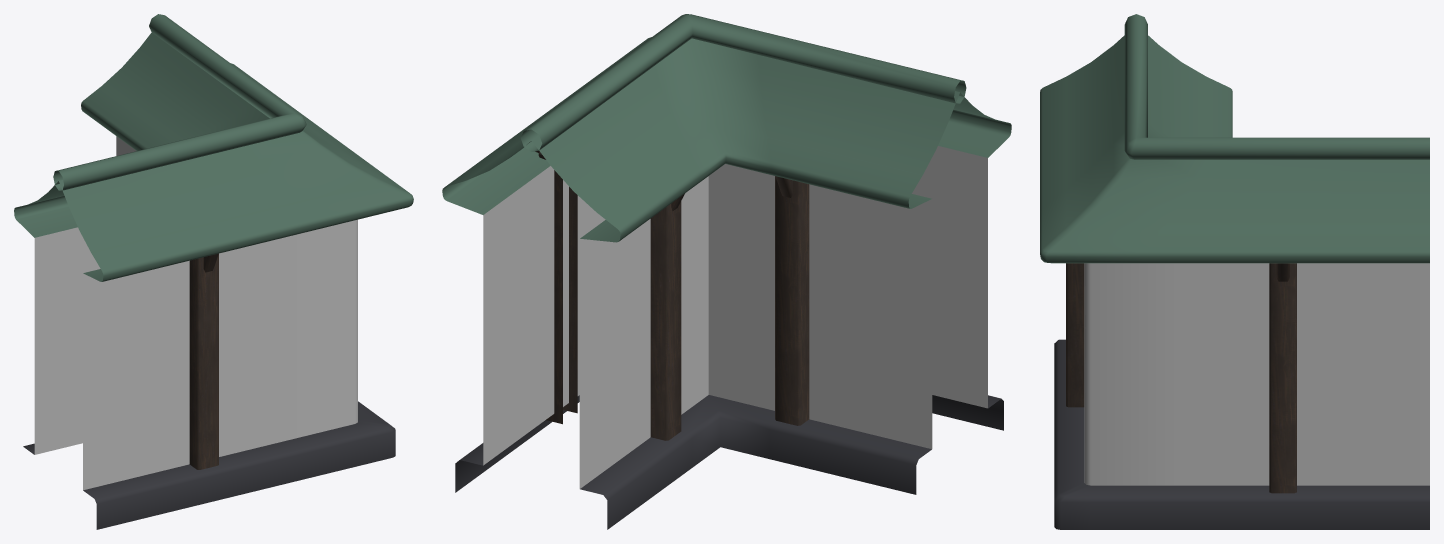
Rendered from Wall_Corner.fbx.
3 views of the same model, side by side, from view 1: azimuth 30°, elevation 25°; view 2: azimuth 150°, elevation 25°; view 3: azimuth 270°, elevation 25° (orthographic). The views are drawn at different scales.
Parts seen in each view (by area): view 1: Wall_Corner.003; view 2: Wall_Corner.003; view 3: Wall_Corner.003.
Part boxes in pixels (x1,y1,x2,y2): Wall_Corner.003: (14,14,413,529); Wall_Corner.003: (442,14,1011,529); Wall_Corner.003: (1040,14,1429,529).
Bounding box in the file's own units: 2.66 × 2.69 × 2.66.
